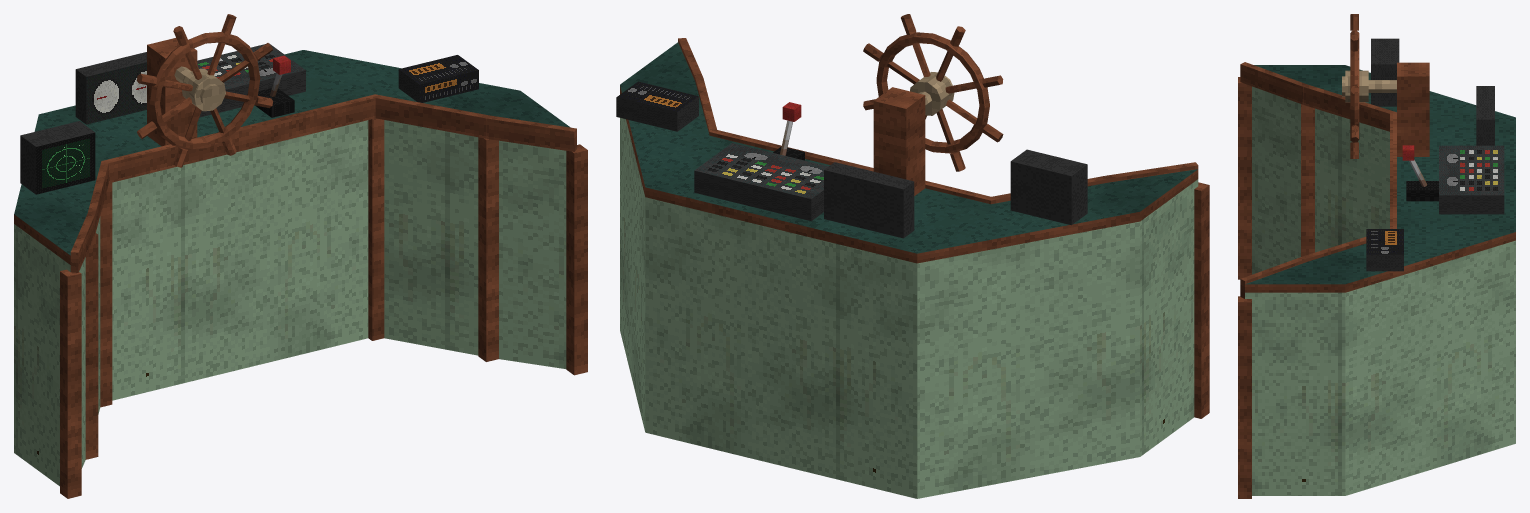
File: Console_Vaporetto_Worn.glb
The picture shows the model from 3 angles, left to right: view 1: azimuth 30°, elevation 25°; view 2: azimuth 150°, elevation 25°; view 3: azimuth 270°, elevation 25°; orthographic projection. The views are drawn at different scales.
Parts seen in each view (by area): view 1: Console, WheelMesh; view 2: Console, WheelMesh; view 3: Console, WheelMesh.
Part boxes in pixels (box(x1,y1,x2,y2)): Console: box(14, 38, 587, 498); WheelMesh: box(136, 14, 273, 167); Console: box(616, 38, 1209, 498); WheelMesh: box(863, 14, 1003, 171); Console: box(1238, 38, 1515, 498); WheelMesh: box(1342, 14, 1368, 158).
Bounding box in the file's own units: 2.28 × 1.59 × 1.19.
Materials: 6 (6 with a texture image).
